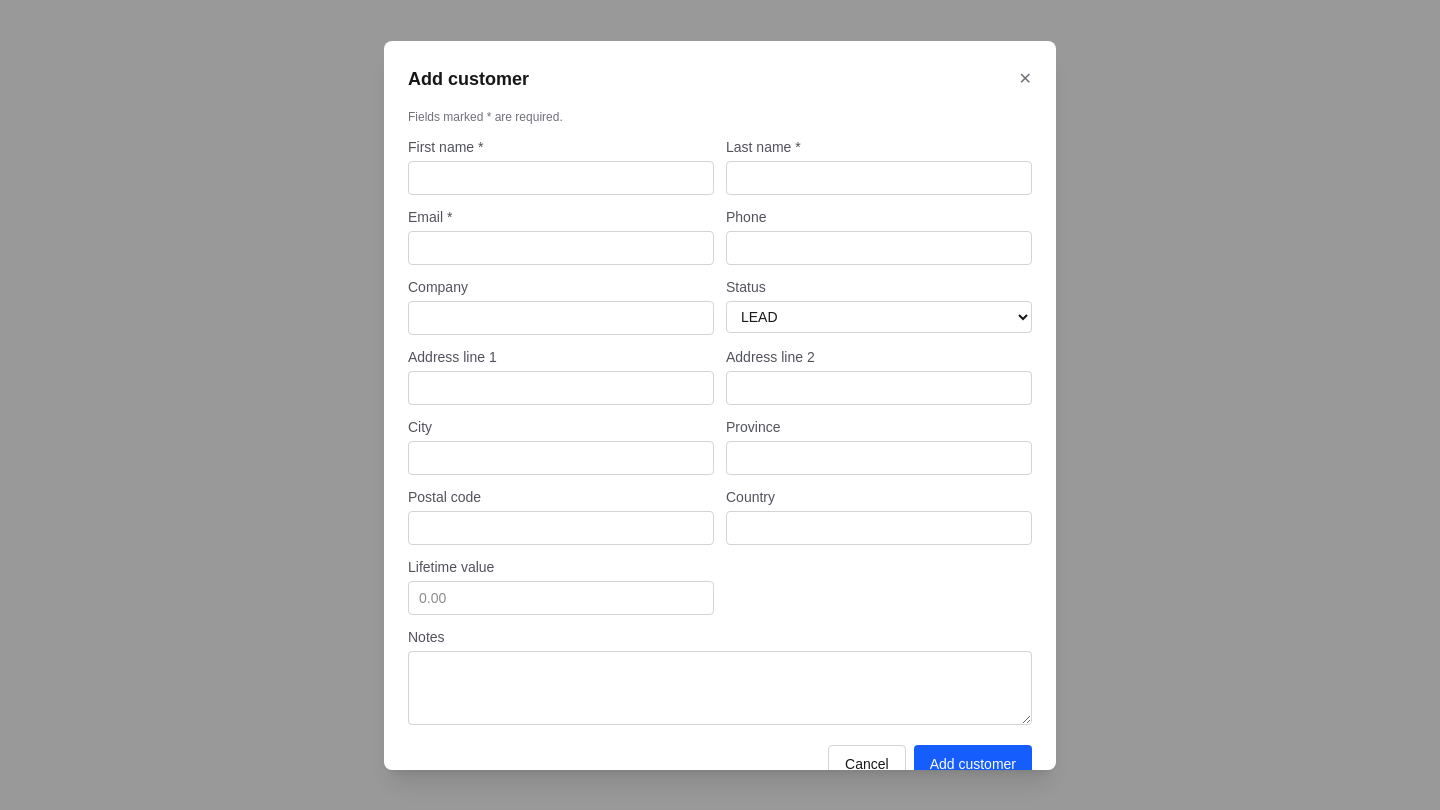
CustomerFormModal › only flags the fields that are actually blank
Type "Grace" into the field labelled "First name *".
click(561, 178); type("Grace")  # box [408,160,714,194]
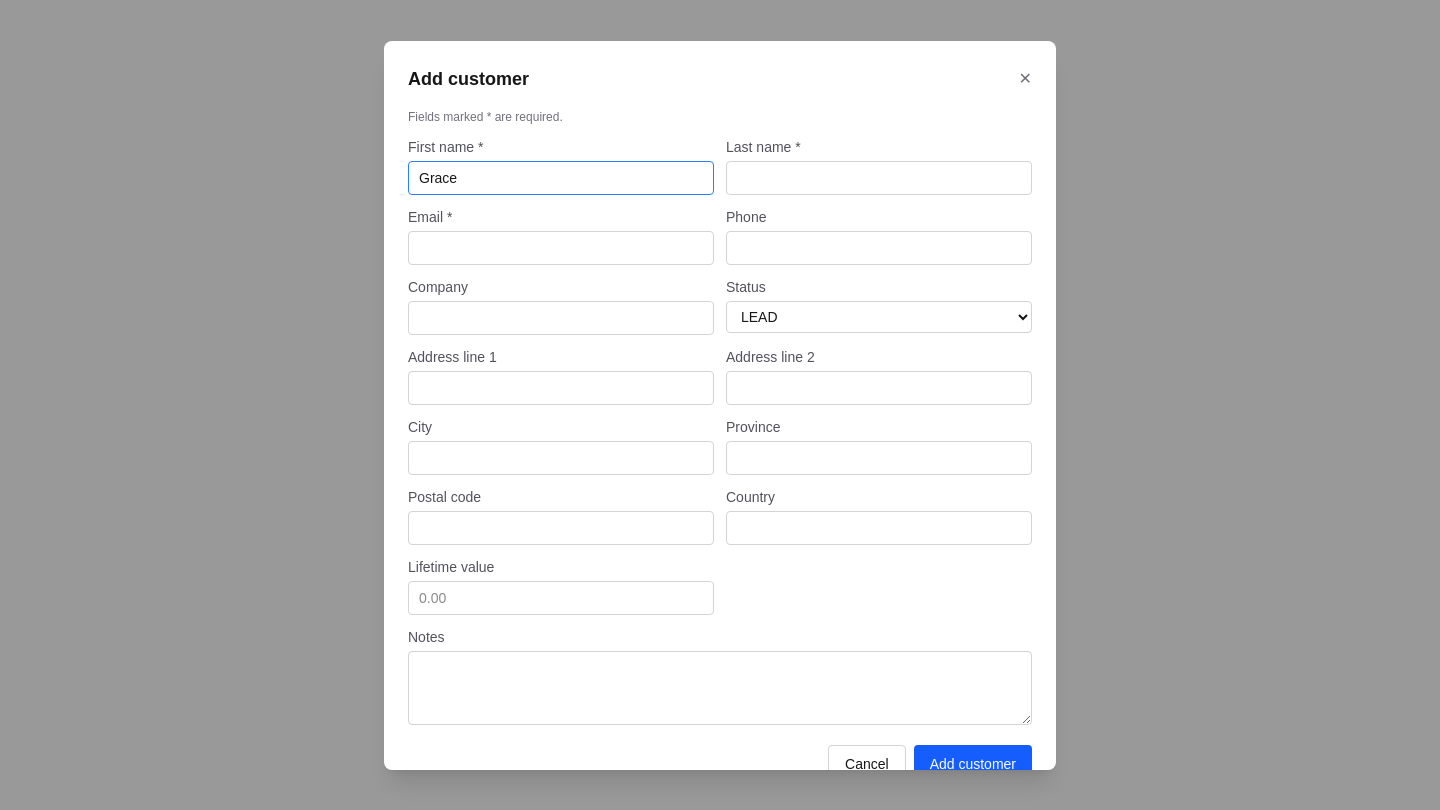
Click the button "Add customer".
click(973, 764)  # box [914,744,1032,782]
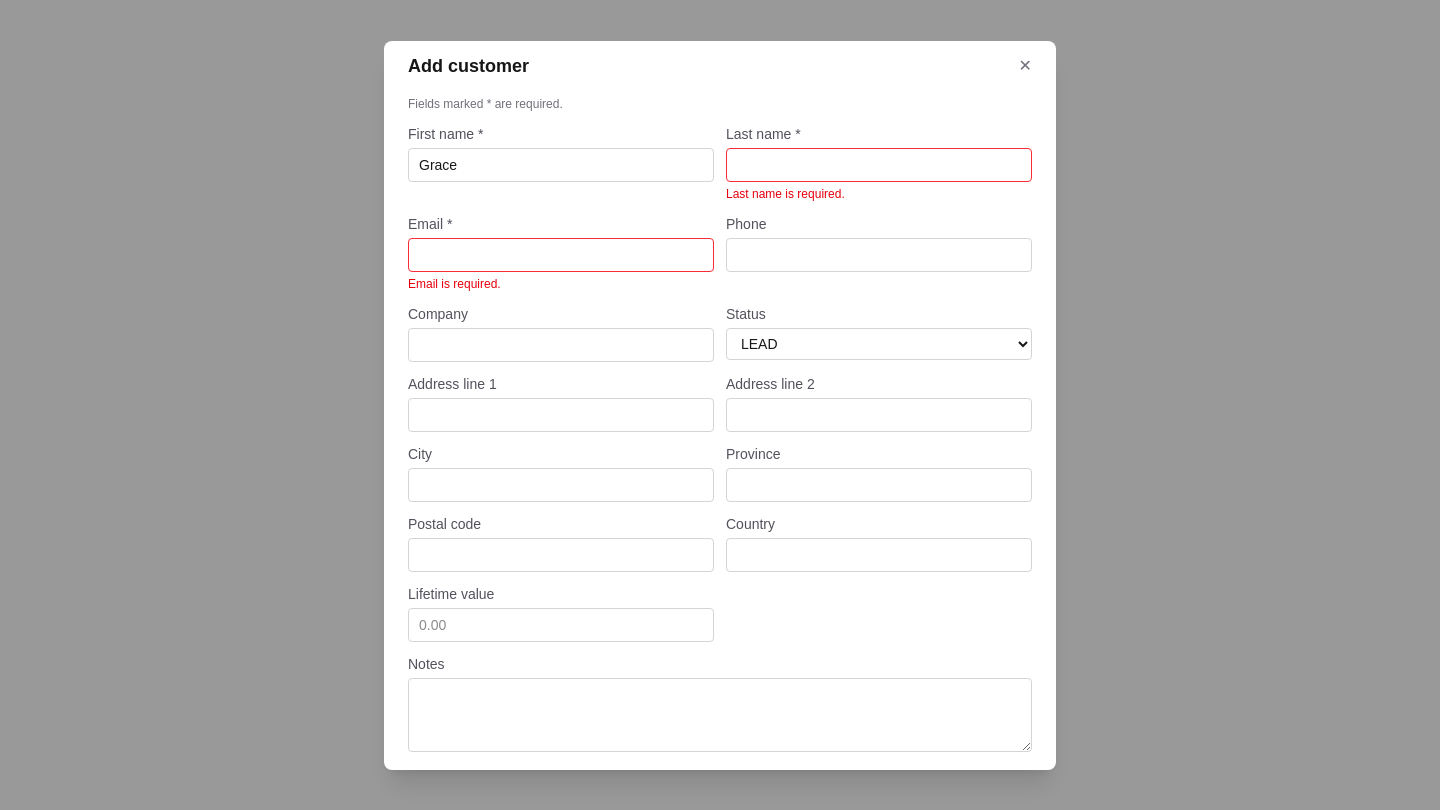
Expected: the text "Last name is required." is shown, [726,186,845,200]
